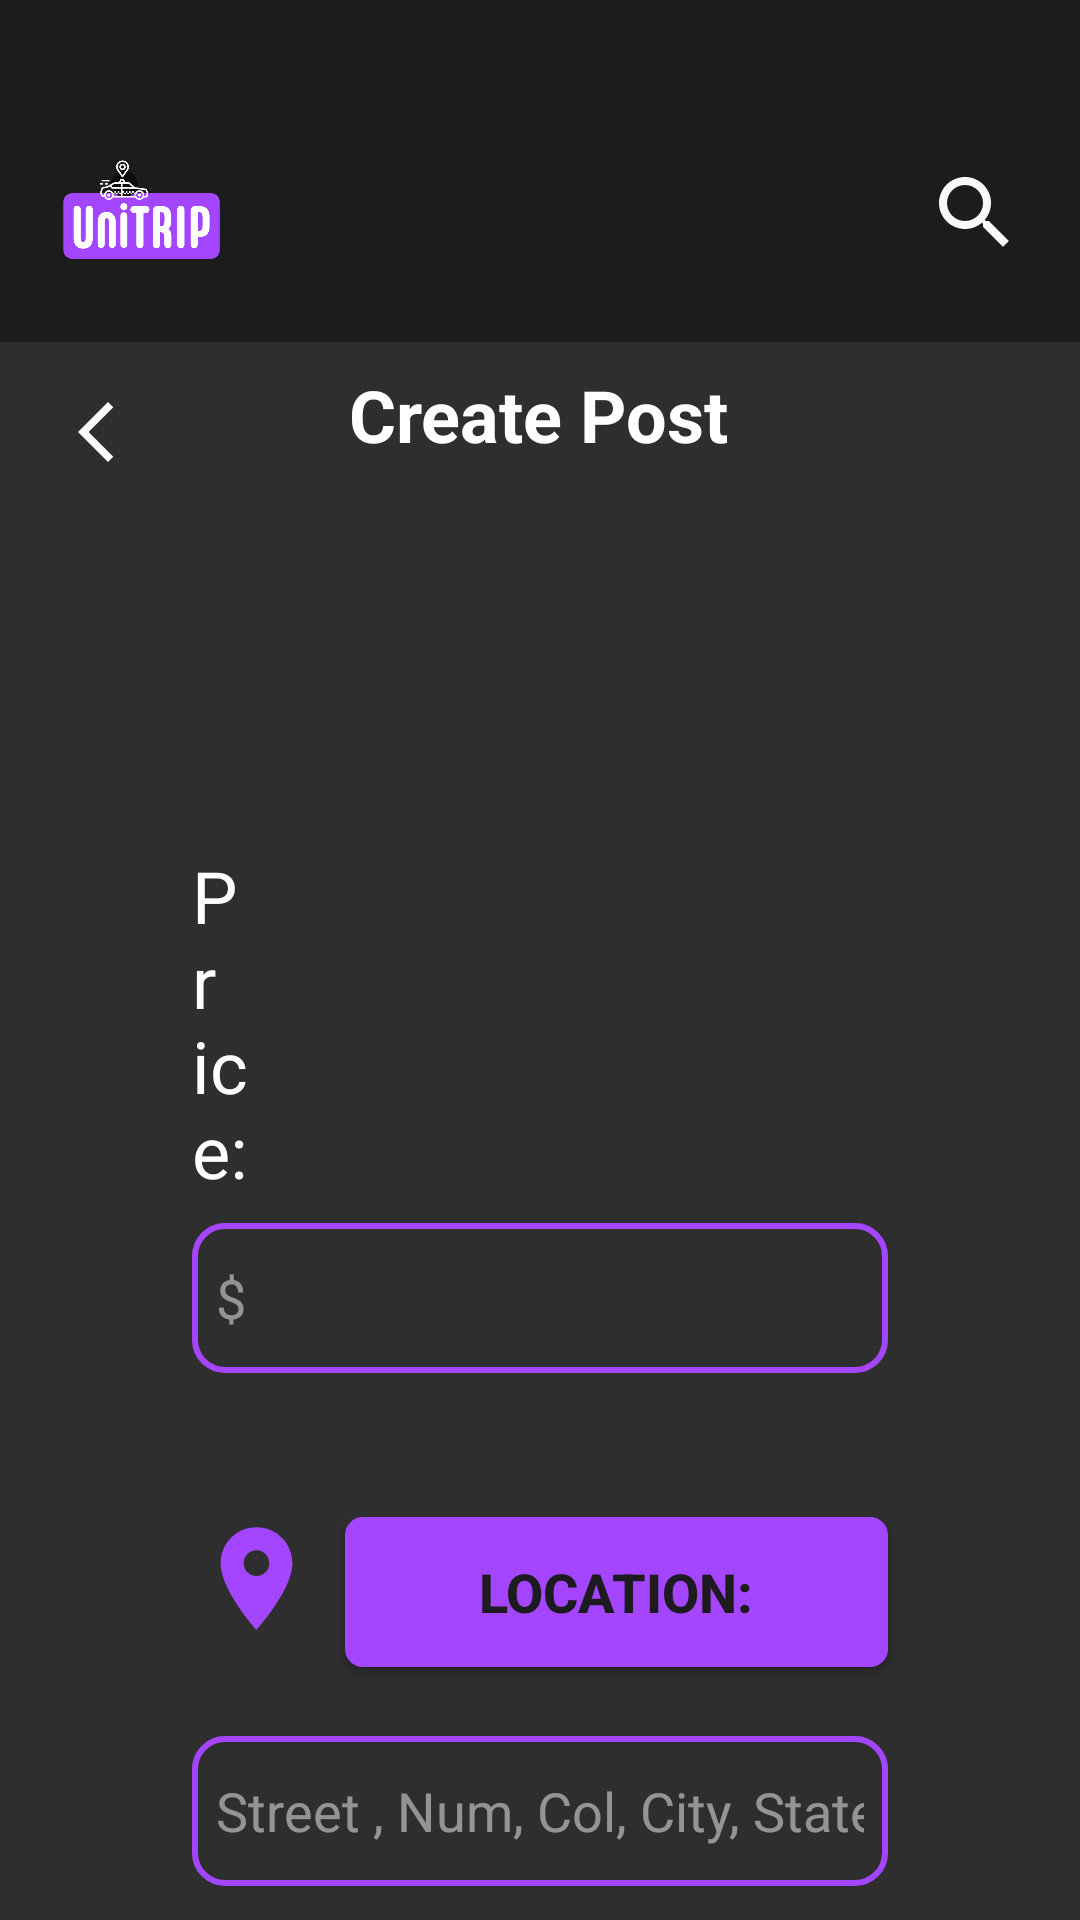

Named icons in this screenshot (1080x1920) and their centers, point (x, y):
Button Back: point (95, 432)
Search button: point (974, 212)
